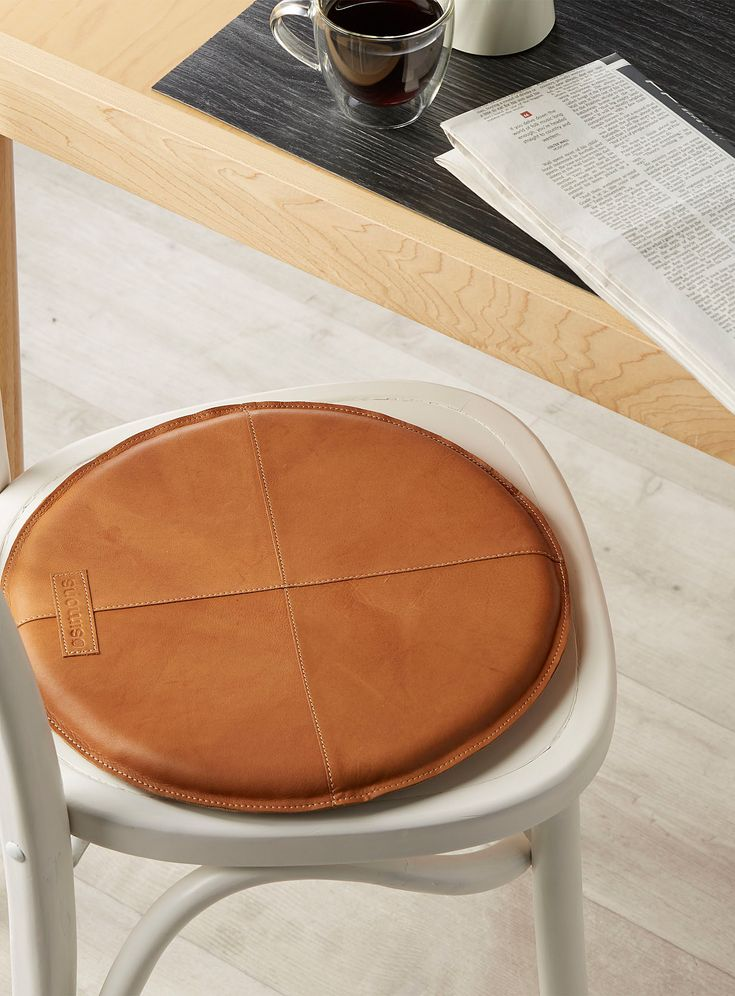cuero: (5, 401, 574, 815)
